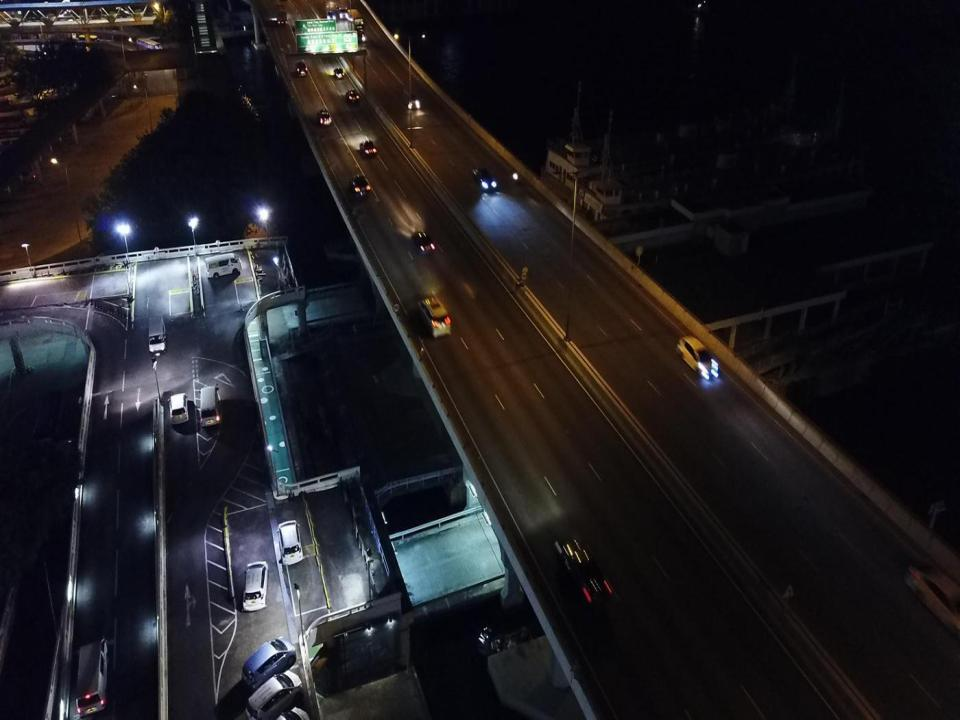bus: (347, 9, 364, 40), (136, 36, 163, 54), (79, 34, 99, 46)
car: (556, 532, 612, 602), (244, 669, 302, 719), (242, 637, 297, 689), (677, 334, 715, 378), (244, 561, 268, 612), (277, 519, 303, 565), (169, 392, 189, 424), (473, 167, 497, 192), (414, 231, 436, 255), (351, 172, 370, 195), (362, 139, 376, 155), (295, 60, 308, 77), (346, 89, 360, 104), (318, 109, 333, 123), (333, 66, 345, 80), (327, 11, 334, 20)
truck: (274, 2, 288, 24), (336, 4, 348, 18)
van: (418, 297, 451, 337), (205, 252, 243, 278), (199, 386, 220, 428), (148, 316, 166, 356), (404, 87, 420, 108)
